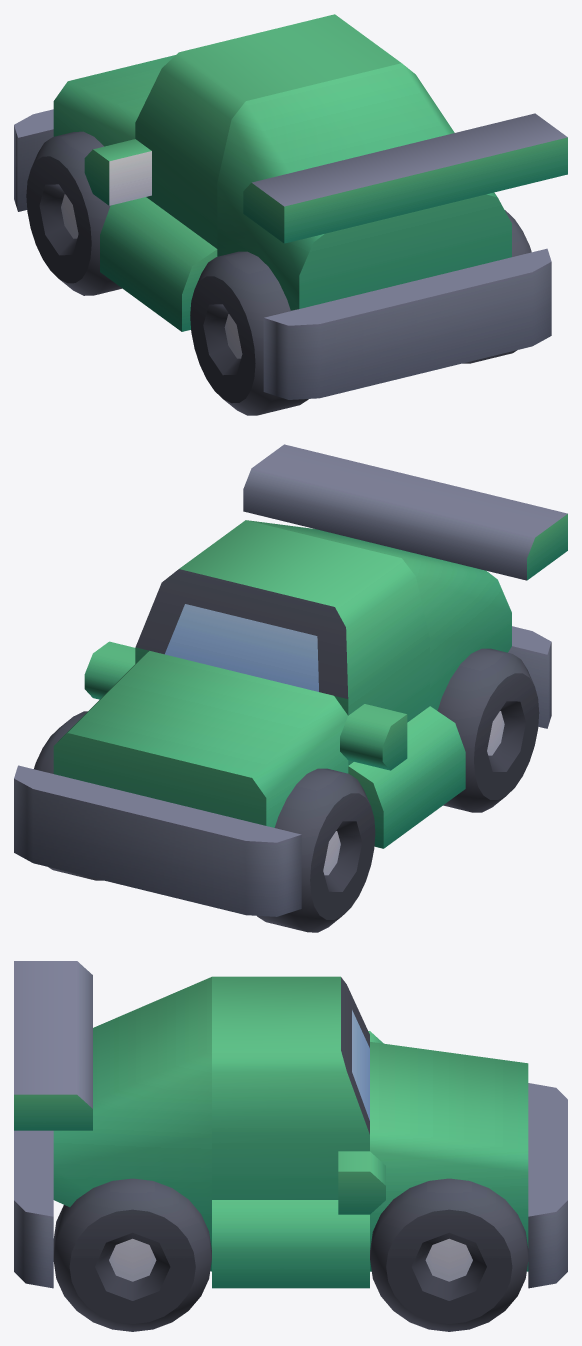
Rendered from kenney-toy-car-vehicle-racer.glb.
3 views of the same model, one above another, from view 1: azimuth 30°, elevation 25°; view 2: azimuth 150°, elevation 25°; view 3: azimuth 270°, elevation 25° (orthographic). The views are drawn at different scales.
Visible parts, largest first — view 1: vehicle-racer, wheel-bl, wheel-fl, wheel-br; view 2: vehicle-racer, wheel-bl, wheel-fl, wheel-fr; view 3: vehicle-racer, wheel-br, wheel-fr.
Boxes of the visible parts, x1=… form: vehicle-racer: x1=14, y1=14, x2=567, y2=399; wheel-bl: x1=190, y1=251, x2=308, y2=415; wheel-fl: x1=26, y1=131, x2=121, y2=295; wheel-br: x1=462, y1=210, x2=531, y2=363; vehicle-racer: x1=14, y1=444, x2=567, y2=916; wheel-bl: x1=437, y1=648, x2=539, y2=812; wheel-fl: x1=257, y1=768, x2=375, y2=932; wheel-fr: x1=34, y1=711, x2=103, y2=880; vehicle-racer: x1=14, y1=961, x2=567, y2=1288; wheel-br: x1=53, y1=1178, x2=211, y2=1331; wheel-fr: x1=370, y1=1178, x2=528, y2=1331.
Size of the model in its own units: 0.525 by 0.45 by 0.875.
Materials: 1 (1 with a texture image).
